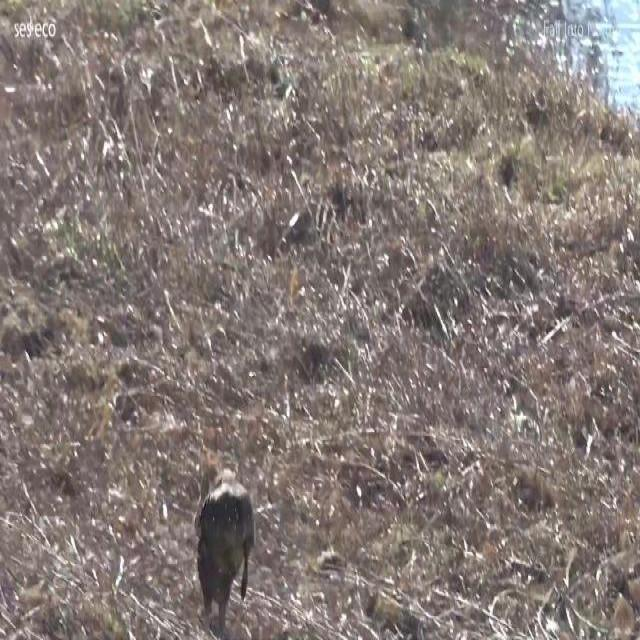deer: (194, 464, 256, 628)
